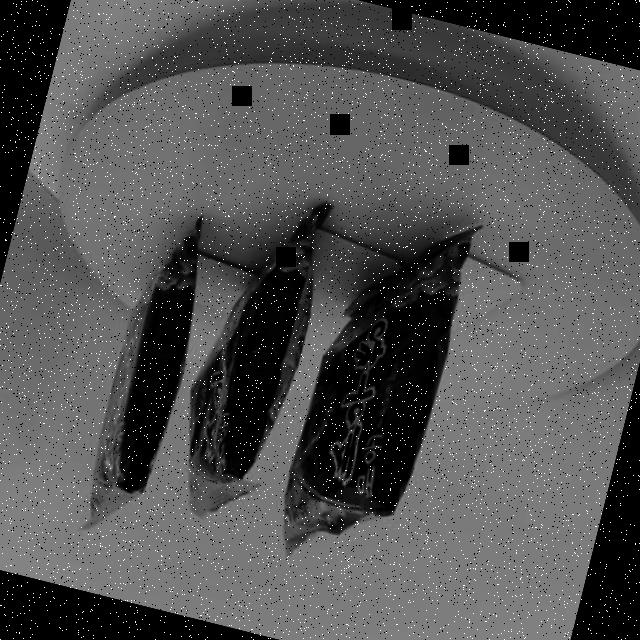snack_bag: (51, 131, 505, 622)
